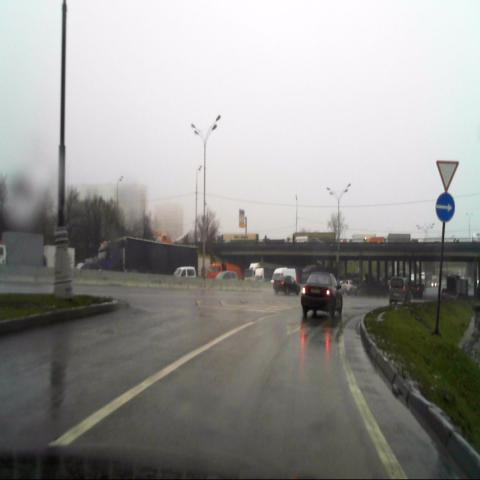4_1_2_1: (436, 194, 454, 222)
